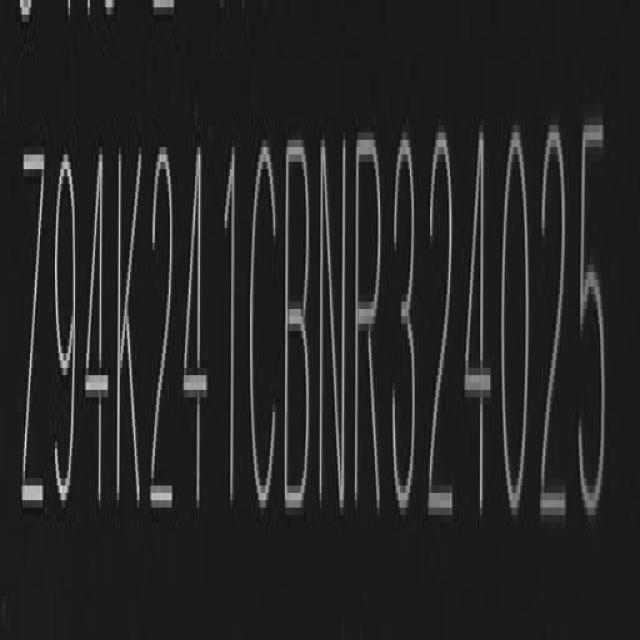0: (502, 119, 533, 531)
1: (222, 120, 240, 507)
2: (539, 120, 573, 533), (428, 131, 460, 534), (147, 138, 177, 526)
3: (392, 126, 424, 532)
4: (460, 121, 494, 530), (183, 140, 214, 526), (84, 145, 114, 521)
5: (578, 108, 612, 533)
9: (49, 141, 77, 526)
B: (285, 126, 317, 524)
C: (248, 133, 279, 522)
K: (116, 142, 146, 523)
N: (318, 126, 349, 524)
R: (352, 127, 387, 521)
Z: (18, 140, 47, 536)
